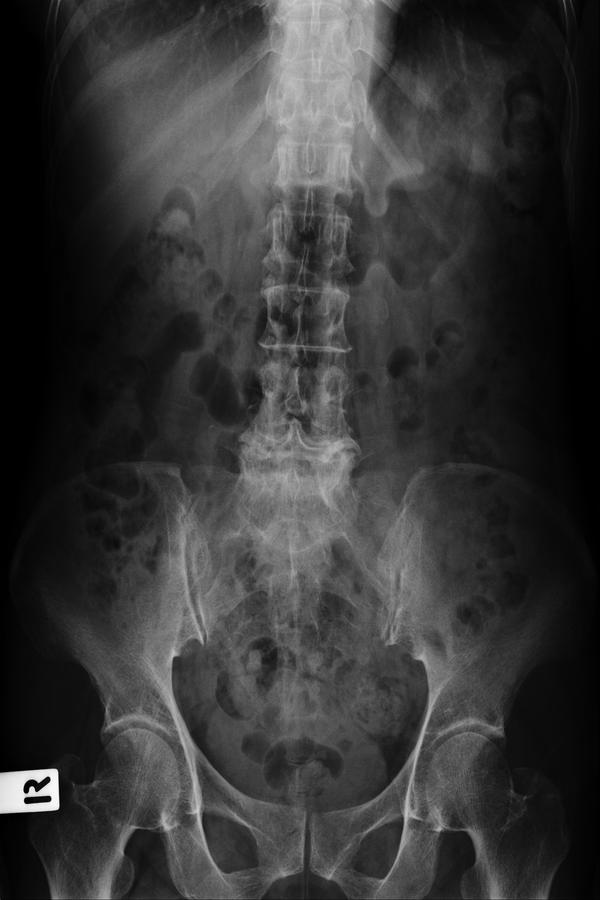lumbar scoliosis: (241, 8, 371, 548)
